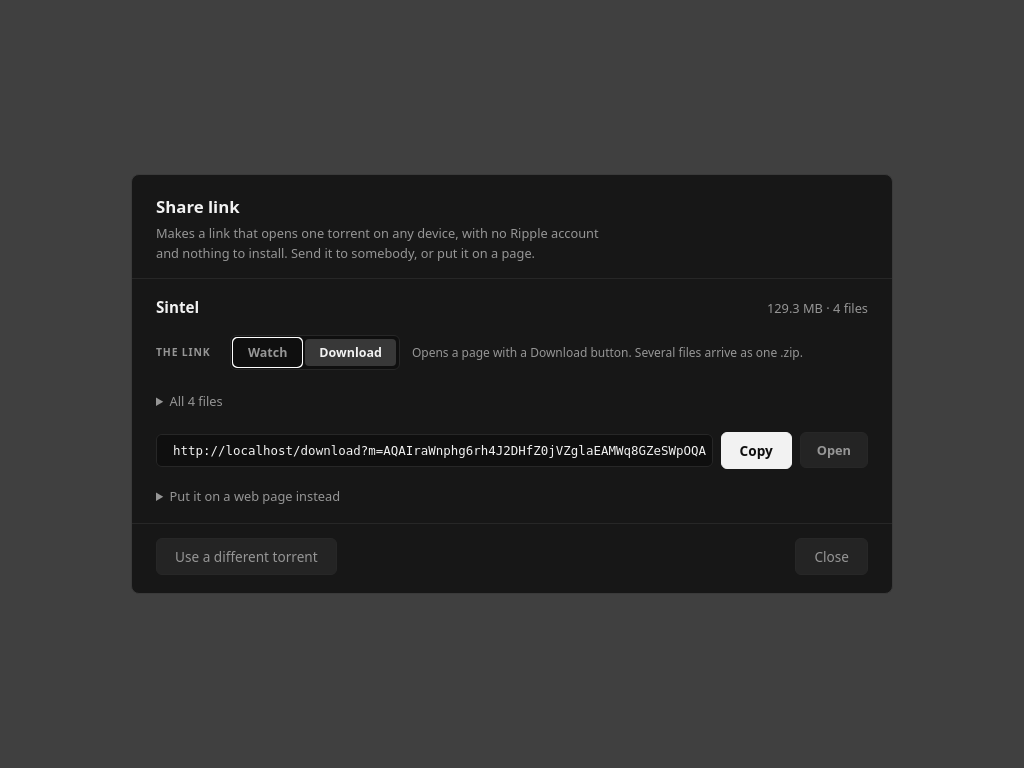
Test: the share link dialog, once it has a torrent › puts allow-downloads in the frame snippet for a download link only
This screenshot has width=1024, height=768.
Click the heading "Put it on a web page instead": (255, 496) left=170, top=487, right=340, bottom=505
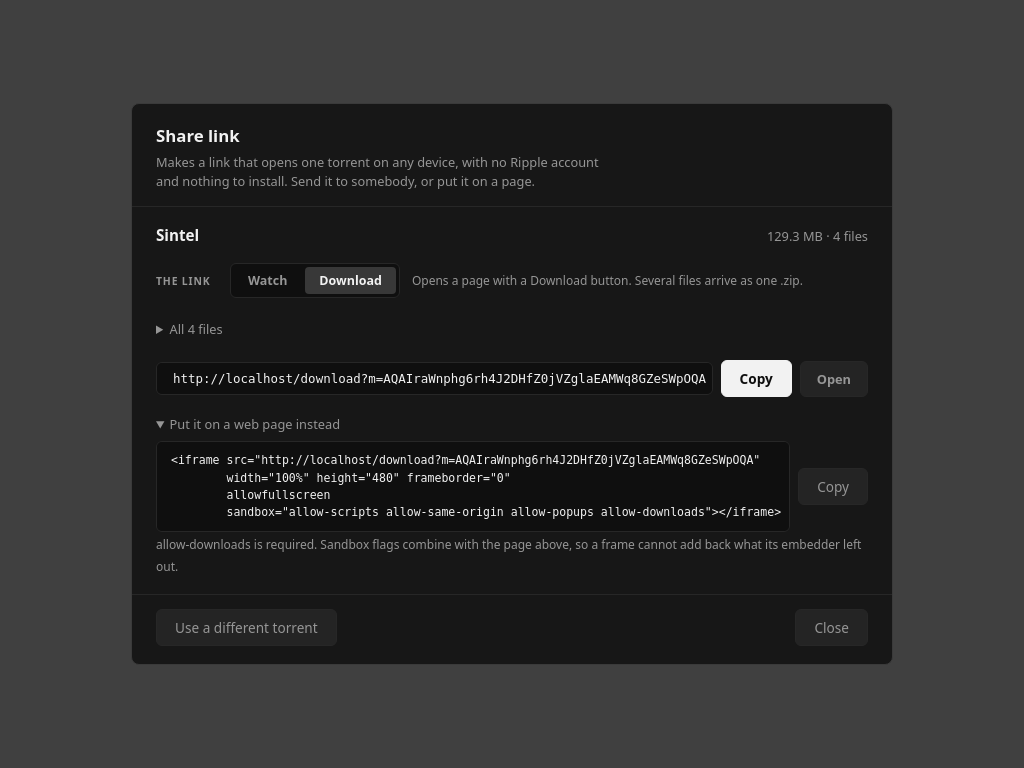
Expected: the text with test id "embed-iframe" shows "allow-downloads", left=171, top=453, right=781, bottom=519
Click the button "Watch": (268, 281) left=234, top=267, right=301, bottom=294
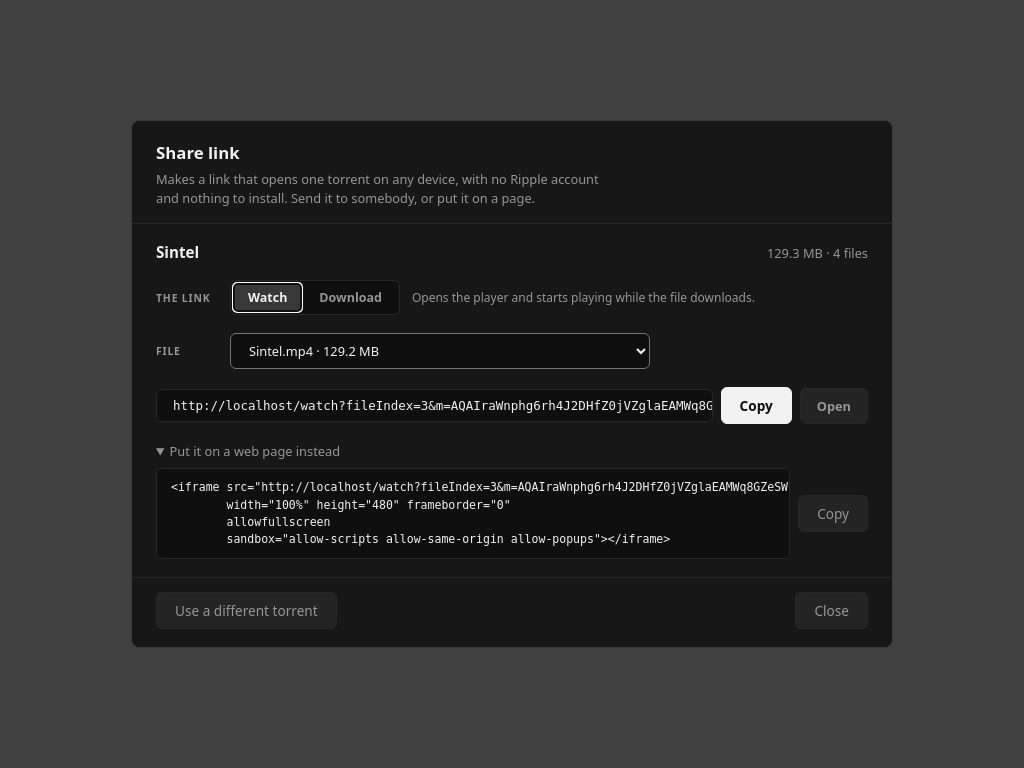
Expected: the text with test id "embed-iframe" no longer shows "allow-downloads"
